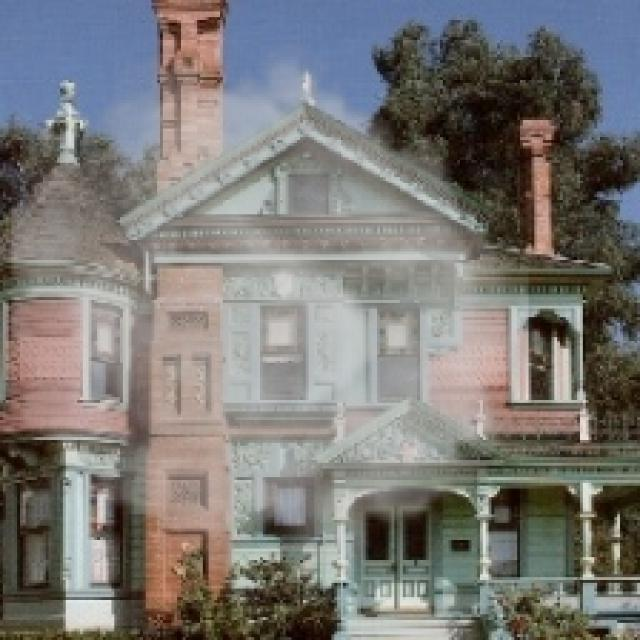smoke: (11, 37, 528, 583)
